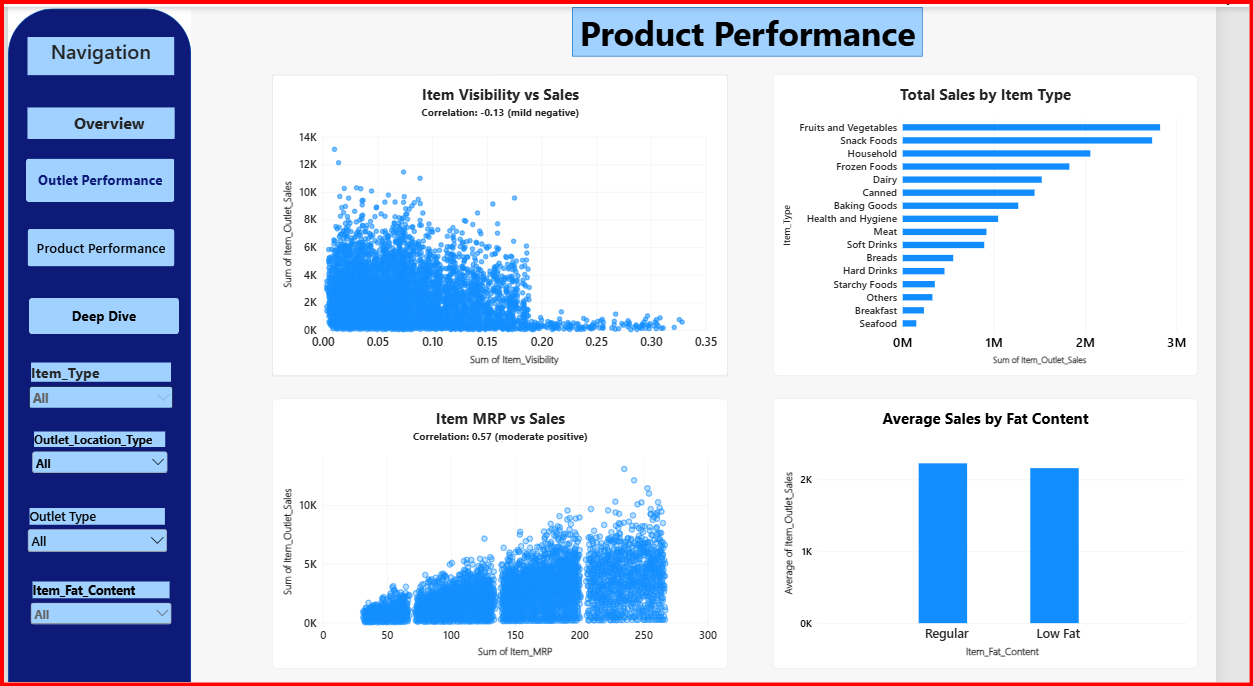

The page's visual inventory and layout, read from the dashboard file:
{"tool":"powerbi","page":{"name":"Product Performance","canvas":[1920,1080],"ordinal":2},"visuals":[{"type":"shape","box":[0,2.4,291.3,1077.5],"z":0,"group":"g1"},{"type":"group","id":"g1","title":"Group 2","box":[0,2.4,291.3,1077.5],"z":0},{"type":"clusteredBarChart","title":"Total Sales by Item Type","fields":{"Category":["Bigmart_sales_data.Item_Type"],"Y":["Sum(Bigmart_sales_data.Item_Outlet_Sales)"]},"box":[1216.8,107.4,675.2,479.6],"z":1},{"type":"scatterChart","title":"Item Visibility vs Sales","fields":{"Category":["Bigmart_sales_data.Index"],"X":["Sum(Bigmart_sales_data.Item_Visibility)"],"Y":["Sum(Bigmart_sales_data.Item_Outlet_Sales)"]},"box":[419.9,107.4,725.3,479.6],"z":2},{"type":"scatterChart","title":"Item MRP vs Sales","fields":{"Category":["Bigmart_sales_data.Index"],"X":["Sum(Bigmart_sales_data.Item_MRP)"],"Y":["Sum(Bigmart_sales_data.Item_Outlet_Sales)"]},"box":[419.9,622.7,725.3,429.5],"z":3},{"type":"clusteredColumnChart","title":"Average Sales by Fat Content","fields":{"Category":["Bigmart_sales_data.Item_Fat_Content"],"Y":["Avg(Bigmart_sales_data.Item_Outlet_Sales)"]},"box":[1216.8,622.7,675,429],"z":4},{"type":"shape","box":[897.1,0,558.3,78.7],"z":5},{"type":"slicer","fields":{"Values":["Bigmart_sales_data.Outlet_Location_Type"]},"box":[33.4,675.2,224.8,74.1],"z":1000,"group":"g1"},{"type":"slicer","fields":{"Values":["Bigmart_sales_data.Item_Type"]},"box":[28.6,565.5,238.6,71.7],"z":2000,"group":"g1"},{"type":"slicer","fields":{"Values":["Bigmart_sales_data.Item_Fat_Content"]},"box":[31,913.8,234,74.1],"z":3000,"group":"g1"},{"type":"textbox","box":[31,47.7,233.3,60.7],"z":4000,"group":"g1"},{"type":"actionButton","box":[31,159.9,234,50.2],"z":5000,"group":"g1"},{"type":"actionButton","box":[28.6,241,236.3,69.3],"z":6000,"group":"g1"},{"type":"actionButton","box":[31,353.1,234,59.7],"z":7000,"group":"g1"},{"type":"actionButton","box":[33.4,462.9,238.6,57.3],"z":8000,"group":"g1"},{"type":"slicer","fields":{"Values":["Bigmart_sales_data.Outlet_Type"]},"box":[26.2,796.9,231.4,81.1],"z":9000,"group":"g1"}]}

Visuals, with their boxes in screenshot pixels (x1, y1, x2, y2), scaled from the page's 1920x1080 canvas onto the 1253x686 screenshot:
shape: 0:2:190:685
"Group 2" group: 0:2:190:685
"Total Sales by Item Type" clusteredBarChart: 794:68:1235:373
"Item Visibility vs Sales" scatterChart: 274:68:747:373
"Item MRP vs Sales" scatterChart: 274:396:747:668
"Average Sales by Fat Content" clusteredColumnChart: 794:396:1235:668
shape: 585:0:950:50
slicer - Bigmart_sales_data.Outlet_Location_Type: 22:429:169:476
slicer - Bigmart_sales_data.Item_Type: 19:359:174:405
slicer - Bigmart_sales_data.Item_Fat_Content: 20:580:173:627
textbox: 20:30:172:69
actionButton: 20:102:173:133
actionButton: 19:153:173:197
actionButton: 20:224:173:262
actionButton: 22:294:178:330
slicer - Bigmart_sales_data.Outlet_Type: 17:506:168:558
